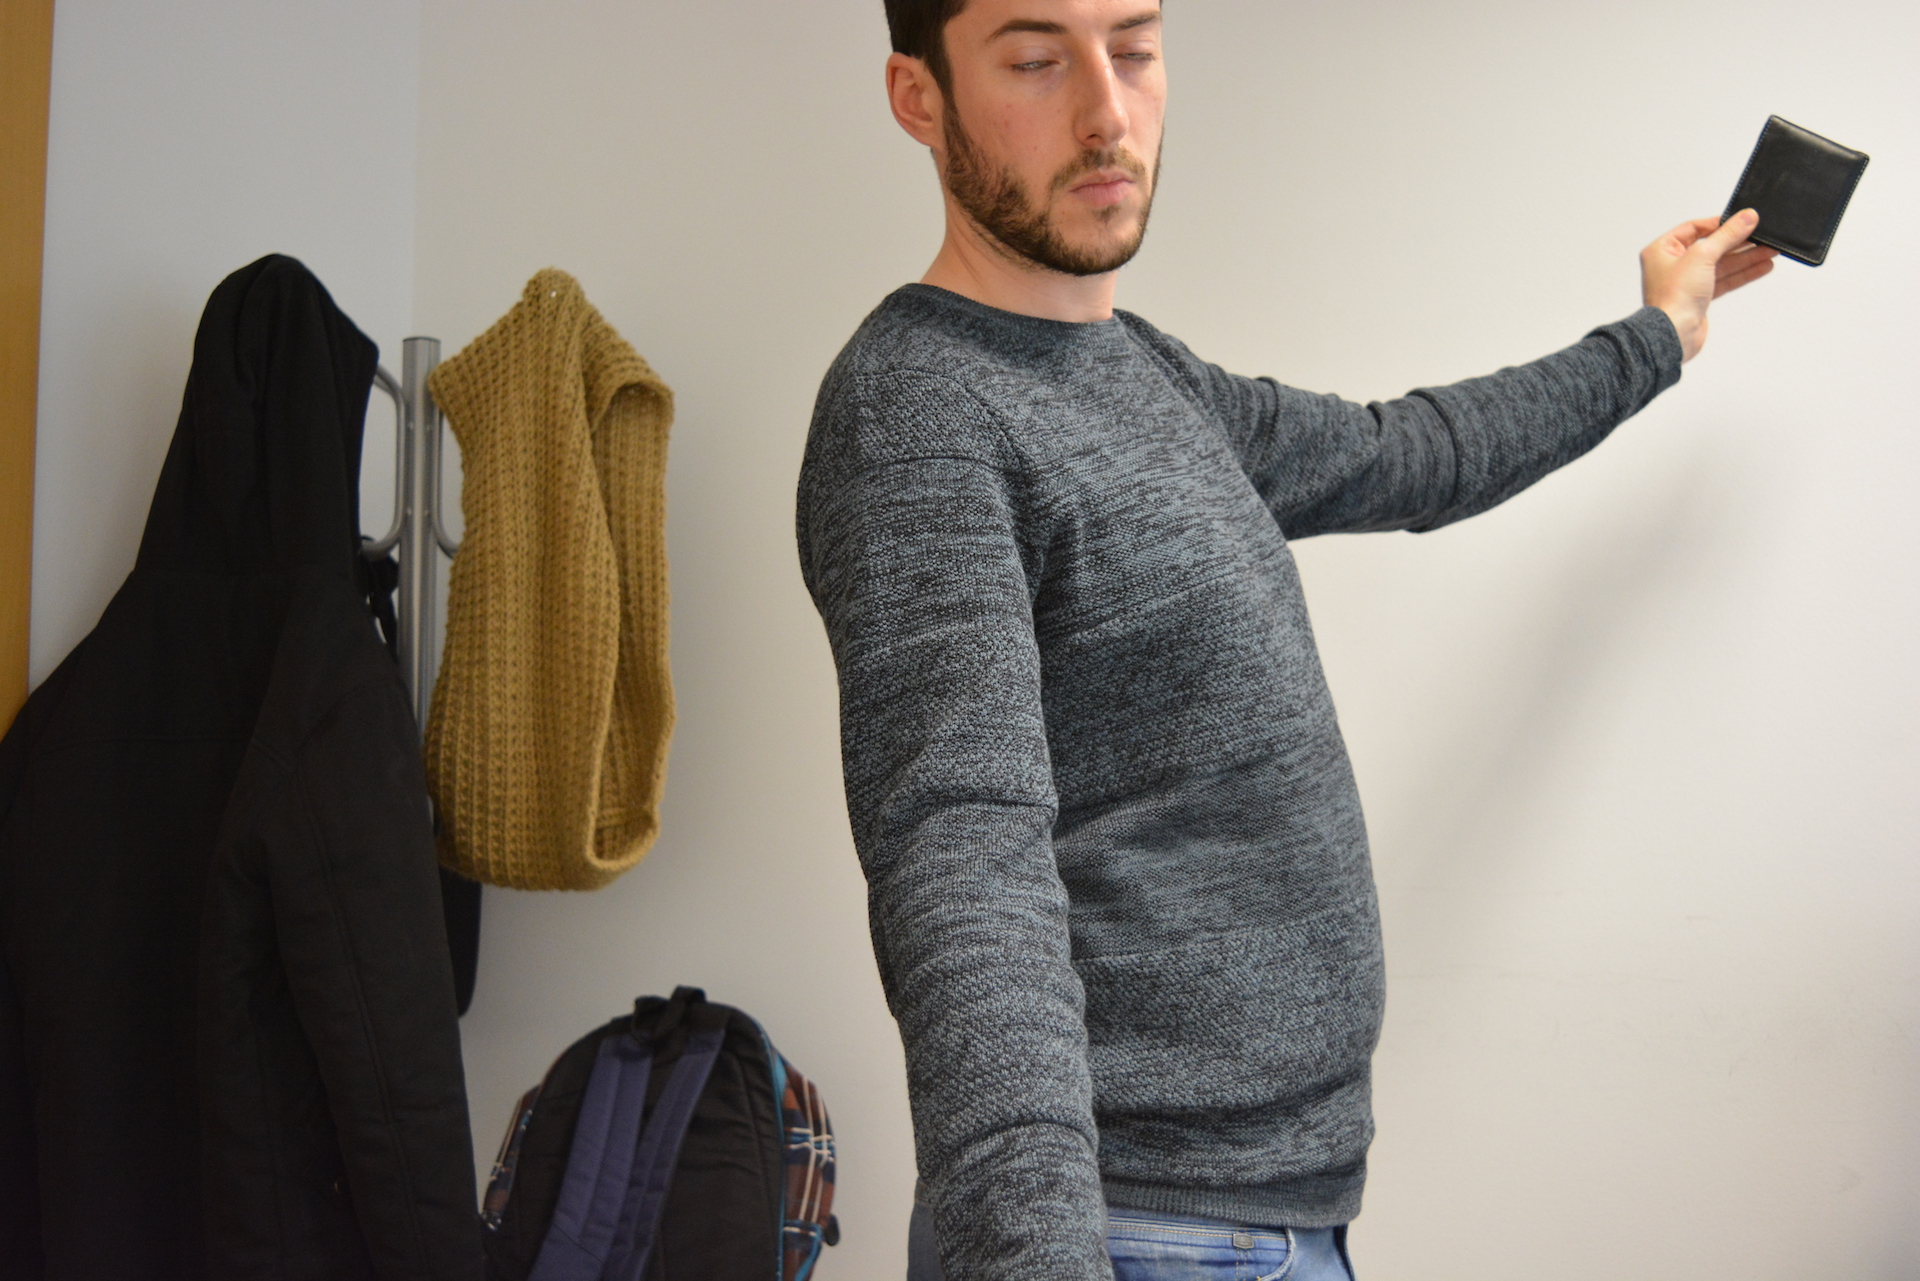monedero: (1718, 113, 1871, 269)
